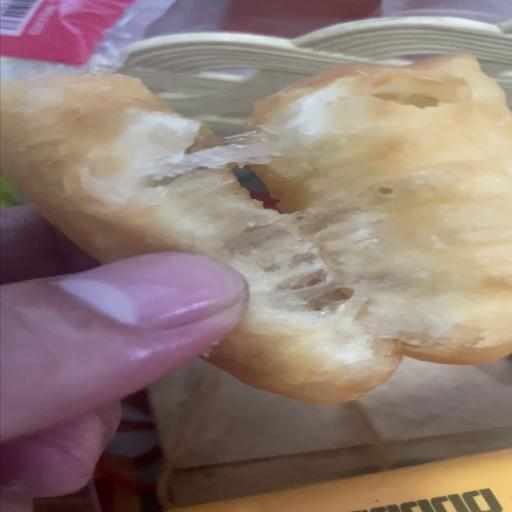street_golden_defect: (0, 52, 512, 402)
